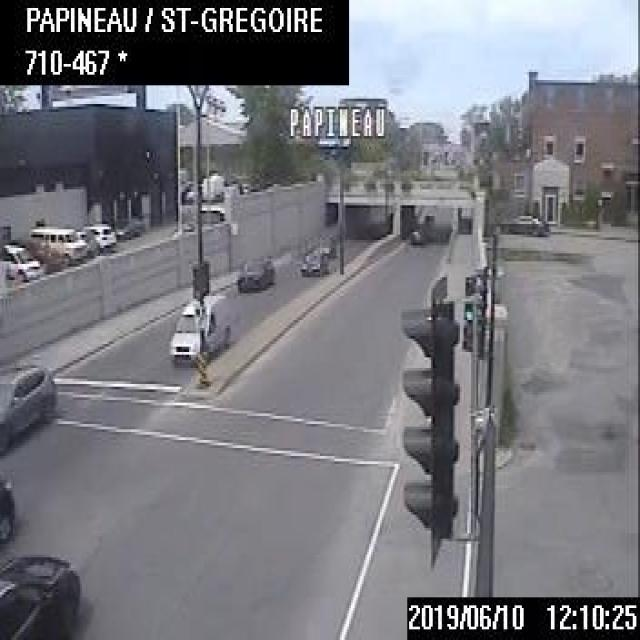vehicle: (0, 550, 82, 638), (0, 357, 58, 456), (167, 288, 230, 363), (24, 221, 88, 267), (0, 238, 42, 286), (497, 206, 550, 237), (77, 217, 118, 252), (236, 256, 275, 290), (0, 475, 15, 544), (110, 216, 144, 237), (298, 250, 326, 274), (312, 234, 335, 254), (405, 226, 420, 242)
